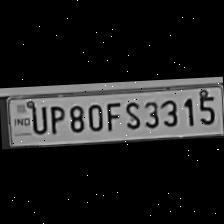0: (84, 99, 104, 131)
1: (178, 92, 196, 125)
3: (140, 96, 160, 128), (158, 95, 178, 127)
5: (195, 90, 217, 124)
8: (64, 100, 84, 132)
F: (102, 97, 120, 130)
P: (44, 100, 66, 134)
S: (121, 97, 141, 129)
U: (26, 102, 46, 134)
